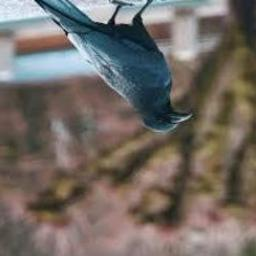Crow: (27, 0, 192, 133)
